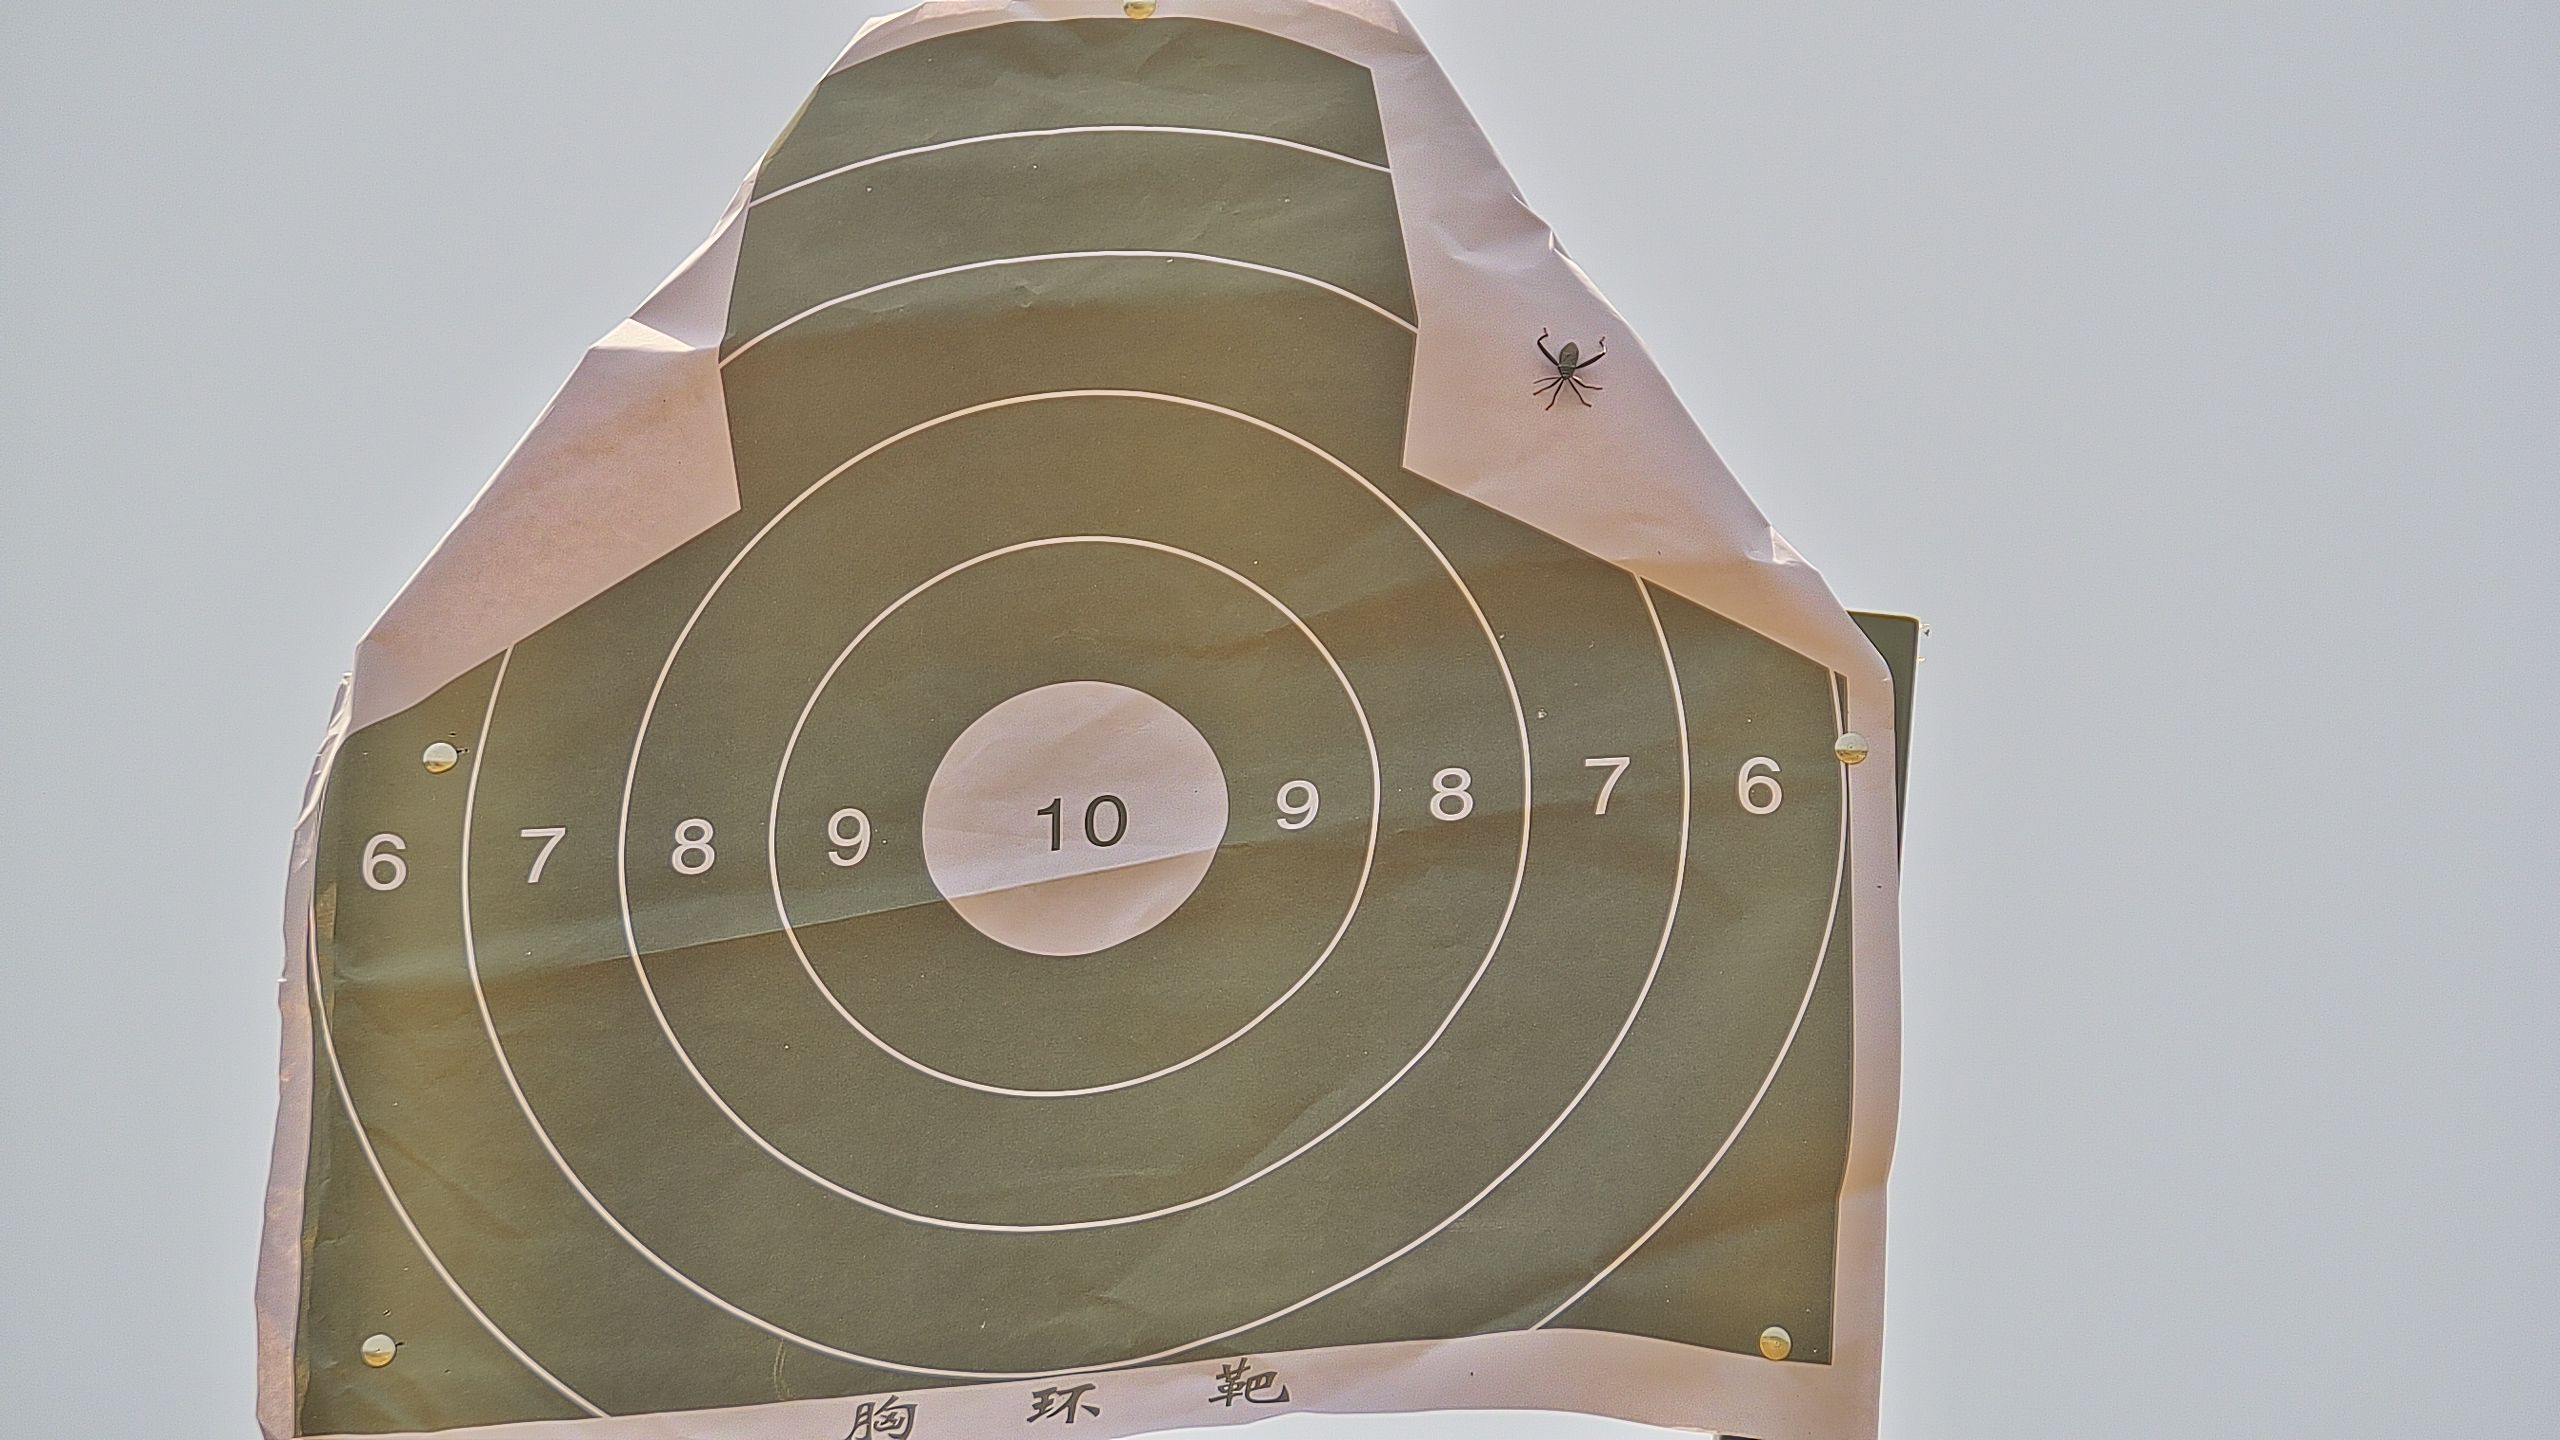kernel: (1067, 826, 1073, 828)
target: (301, 16, 1857, 1440)
ten: (921, 675, 1229, 956)
